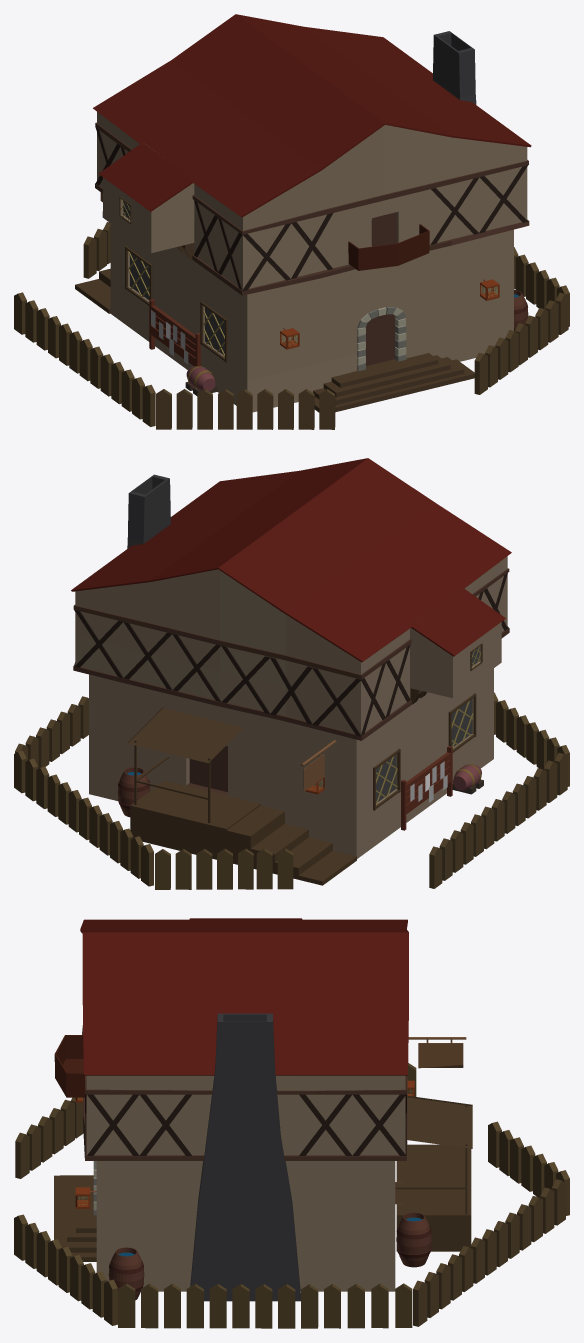
The picture shows the model from 3 angles, top to bottom: view 1: azimuth 30°, elevation 25°; view 2: azimuth 150°, elevation 25°; view 3: azimuth 270°, elevation 25°; orthographic projection. The views are drawn at different scales.
Parts seen in each view (by area): view 1: Cube, Cube.045, Cube.046, Cube.056, Cube.044, Cube.050, Cube.012, Cube.048, Cube.010, Cube.042, Cube.040, Cube.007 (+5 smaller); view 2: Cube, Cube.001, Cube.043, Cube.046, Cube.056, Cube.041, Plane, Cube.045, Cube.050, Cube.048, Cube.005, Cube.042 (+6 smaller); view 3: Cube, Cube.050, Cube.048, Cube.043, Cube.001, Cube.044, Cube.056, Cube.041, Plane, Cube.045, Cube.012, Cylinder (+7 smaller).
Part boxes in pixels (<box>): Cube: <box>93,14,531,412</box>; Cube.045: <box>156,389,335,429</box>; Cube.046: <box>14,292,155,426</box>; Cube.056: <box>95,128,527,291</box>; Cube.044: <box>474,293,568,394</box>; Cube.050: <box>432,31,476,104</box>; Cube.012: <box>348,224,429,270</box>; Cube.048: <box>514,247,569,326</box>; Cube.010: <box>331,353,438,387</box>; Cube.042: <box>149,299,200,366</box>; Cube.040: <box>357,307,406,371</box>; Cube.007: <box>314,359,474,412</box>; Cube: <box>71,458,511,858</box>; Cube.001: <box>130,780,260,859</box>; Cube.043: <box>14,750,153,886</box>; Cube.046: <box>429,753,567,888</box>; Cube.056: <box>74,573,508,736</box>; Cube.041: <box>155,848,293,889</box>; Plane: <box>128,707,243,763</box>; Cube.045: <box>494,692,569,786</box>; Cube.050: <box>127,474,170,548</box>; Cube.048: <box>15,696,88,768</box>; Cube.005: <box>226,805,284,864</box>; Cube.042: <box>401,746,452,830</box>; Cube: <box>80,918,408,1291</box>; Cube.050: <box>190,1013,300,1301</box>; Cube.048: <box>118,1283,412,1328</box>; Cube.043: <box>413,1179,565,1326</box>; Cube.001: <box>396,1164,471,1251</box>; Cube.044: <box>14,1214,117,1325</box>; Cube.056: <box>85,1076,406,1155</box>; Cube.041: <box>488,1121,569,1215</box>; Plane: <box>407,1096,472,1148</box>; Cube.045: <box>15,1097,83,1178</box>; Cube.012: <box>54,1035,86,1097</box>; Cylinder: <box>396,1212,431,1267</box>.
Size of the model in its own units: 1.64 by 0.9858 by 1.72.
